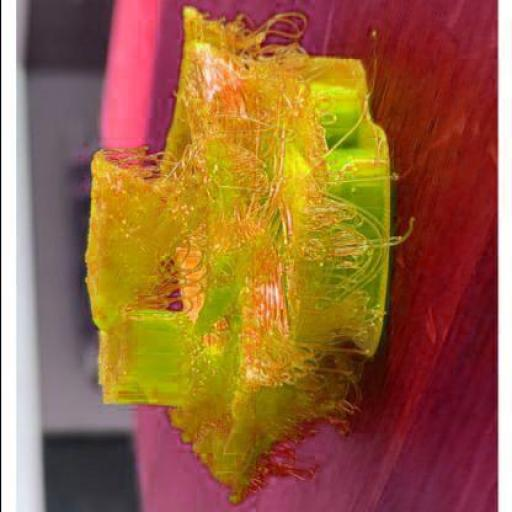spaghetti: (77, 144, 415, 402), (166, 2, 339, 138), (159, 398, 353, 508)
